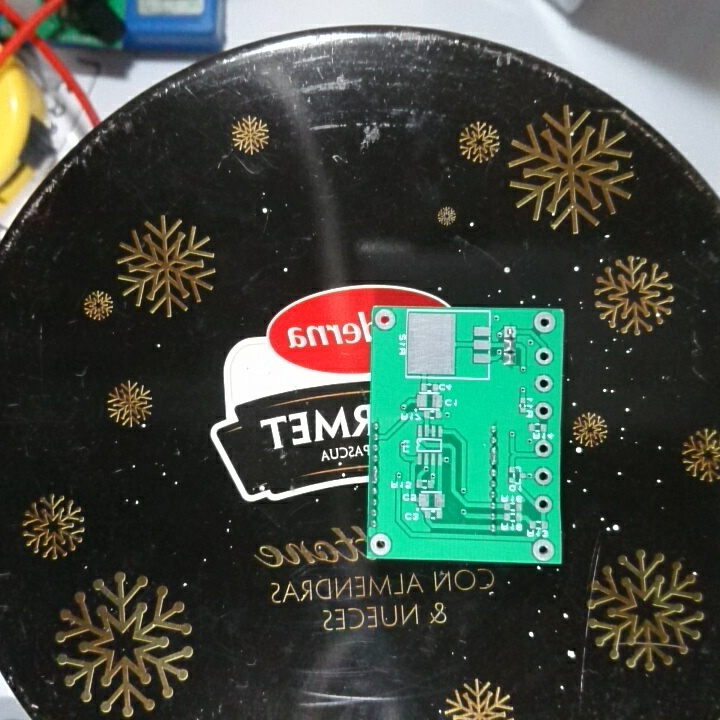F: (531, 535, 559, 560), (533, 309, 559, 335), (369, 531, 394, 557), (373, 309, 398, 331), (533, 371, 555, 394), (533, 345, 556, 366), (533, 465, 553, 489), (533, 493, 553, 516), (534, 400, 555, 421), (532, 439, 553, 458), (501, 323, 519, 340)
P: (370, 464, 382, 486), (489, 443, 500, 466)
